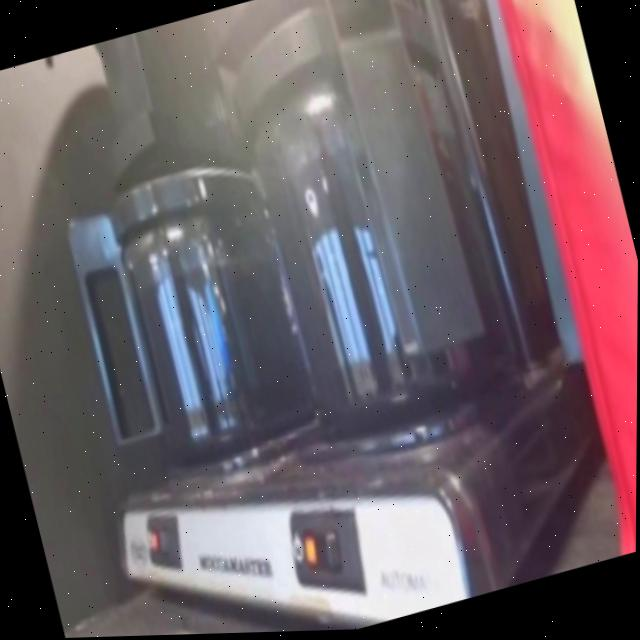coffee: (256, 94, 523, 435), (117, 225, 314, 459)
